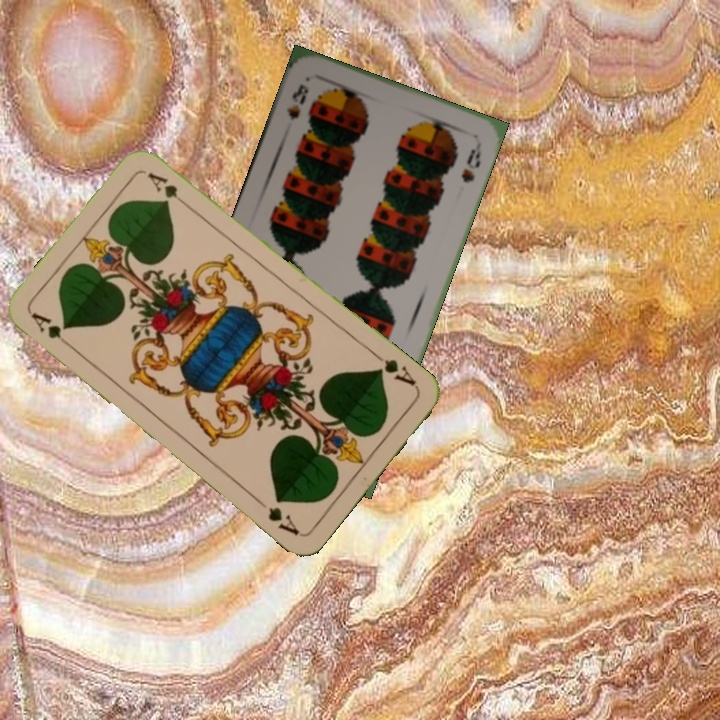GA: (27, 308, 77, 352), (369, 348, 419, 389)
S8: (282, 80, 311, 122)
